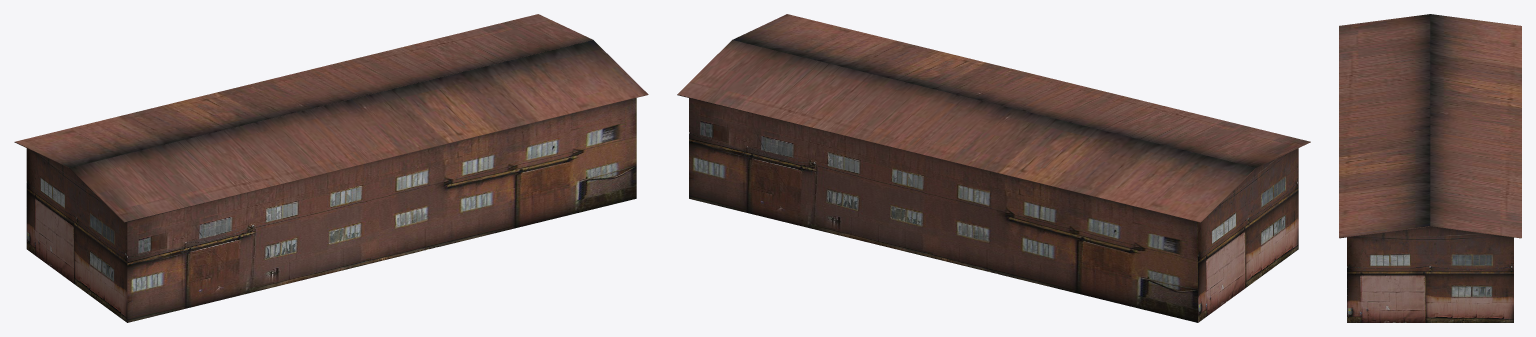
File: d_sclad_21.FBX
3 renders of one model, left to right at view 1: azimuth 30°, elevation 25°; view 2: azimuth 150°, elevation 25°; view 3: azimuth 270°, elevation 25°, orthographic. The views are drawn at different scales.
Visible parts, largest first — view 1: d_sclad_21; view 2: d_sclad_21; view 3: d_sclad_21.
Boxes of the visible parts, x1,y1,x2,y2 form: d_sclad_21: [14, 14, 648, 322]; d_sclad_21: [677, 14, 1310, 322]; d_sclad_21: [1339, 14, 1521, 322].
Size of the model in its own units: 43.15 by 15.7 by 9.46.
